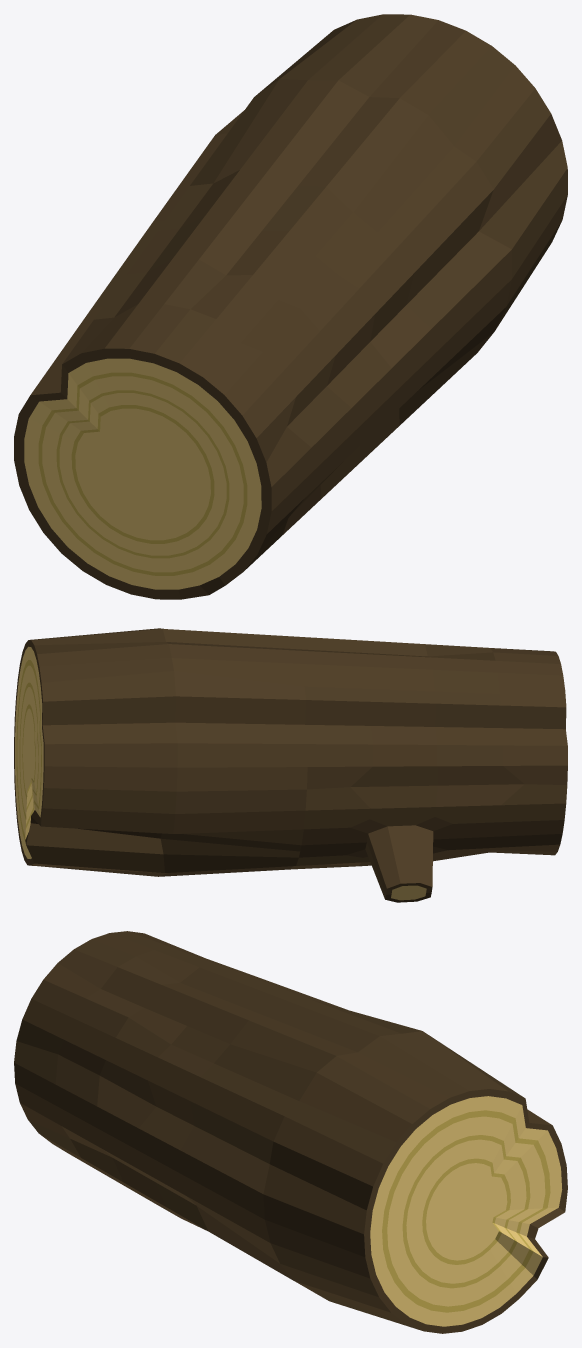
File: wood1.glb
3 views of the same model, one above another, from view 1: azimuth 30°, elevation 25°; view 2: azimuth 150°, elevation 25°; view 3: azimuth 270°, elevation 25° (orthographic). The views are drawn at different scales.
Visible parts, largest first — view 1: Cylinder; view 2: Cylinder; view 3: Cylinder.
Boxes of the visible parts, bbox=[...] form: Cylinder: bbox=[14, 14, 567, 599]; Cylinder: bbox=[14, 628, 567, 902]; Cylinder: bbox=[14, 931, 567, 1333].
Bounding box in the file's own units: 1.04 × 0.4708 × 0.9268.
